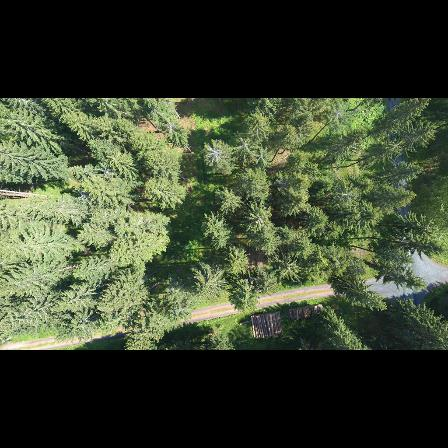Sick: (203, 139, 228, 168), (95, 161, 119, 183)
